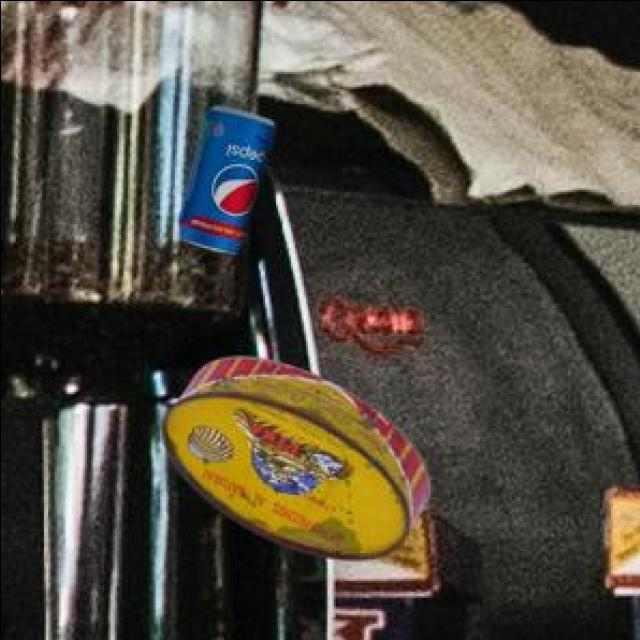logam: (158, 353, 426, 555), (175, 102, 272, 248)
